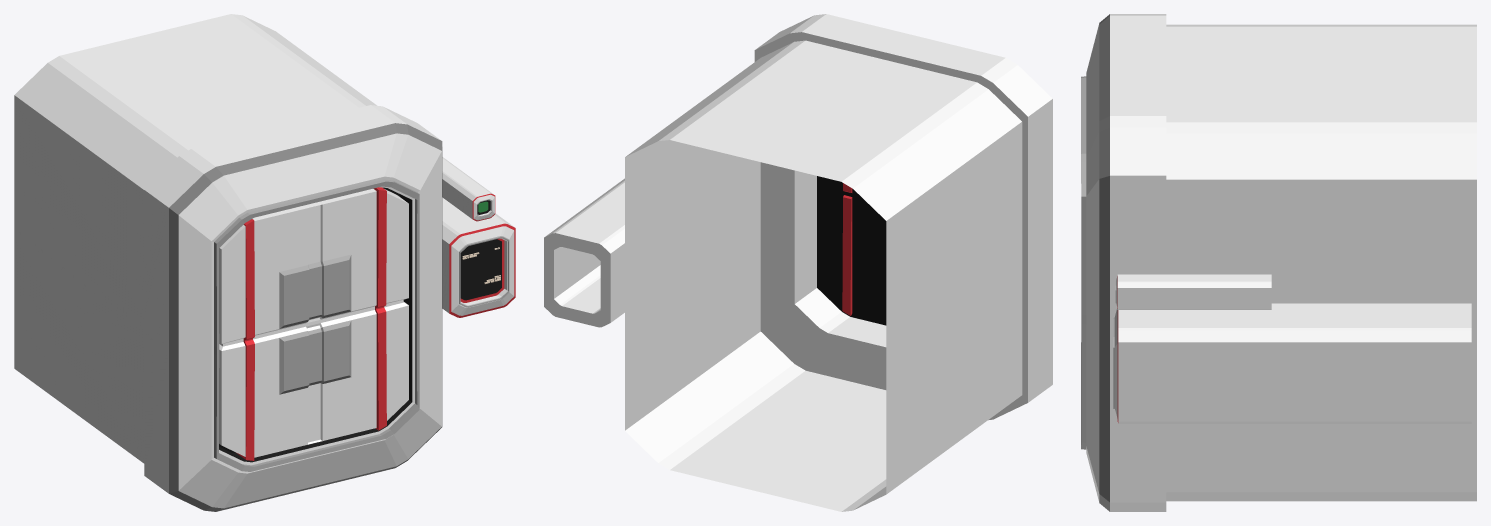
The model's file is interiorLabDoor.glb.
3 views of the same model, side by side, from view 1: azimuth 30°, elevation 25°; view 2: azimuth 150°, elevation 25°; view 3: azimuth 270°, elevation 25° (orthographic). The views are drawn at different scales.
Visible parts, largest first — view 1: InteriorLabDoor, DoorBot, DoorTop; view 2: InteriorLabDoor, DoorBot; view 3: InteriorLabDoor.
Part boxes in pixels (bbox=[...]): InteriorLabDoor: bbox=[14, 14, 515, 511]; DoorBot: bbox=[219, 301, 408, 460]; DoorTop: bbox=[219, 187, 408, 344]; InteriorLabDoor: bbox=[544, 14, 1052, 511]; DoorBot: bbox=[842, 195, 852, 315]; InteriorLabDoor: bbox=[1081, 14, 1476, 511].
Bounding box in the file's own units: 2.89 × 2.72 × 2.48.
Materials: 1 (1 with a texture image).
